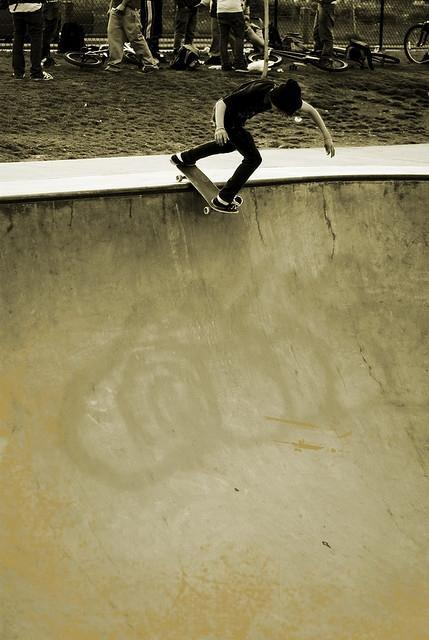bicycle: (248, 44, 348, 71), (63, 46, 142, 68), (405, 21, 429, 63), (370, 51, 401, 64)
